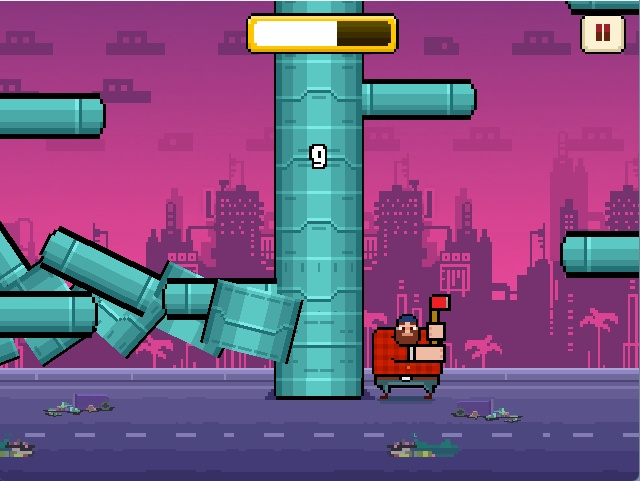right_obs: (353, 73, 485, 130)
timberman: (365, 276, 461, 405)
